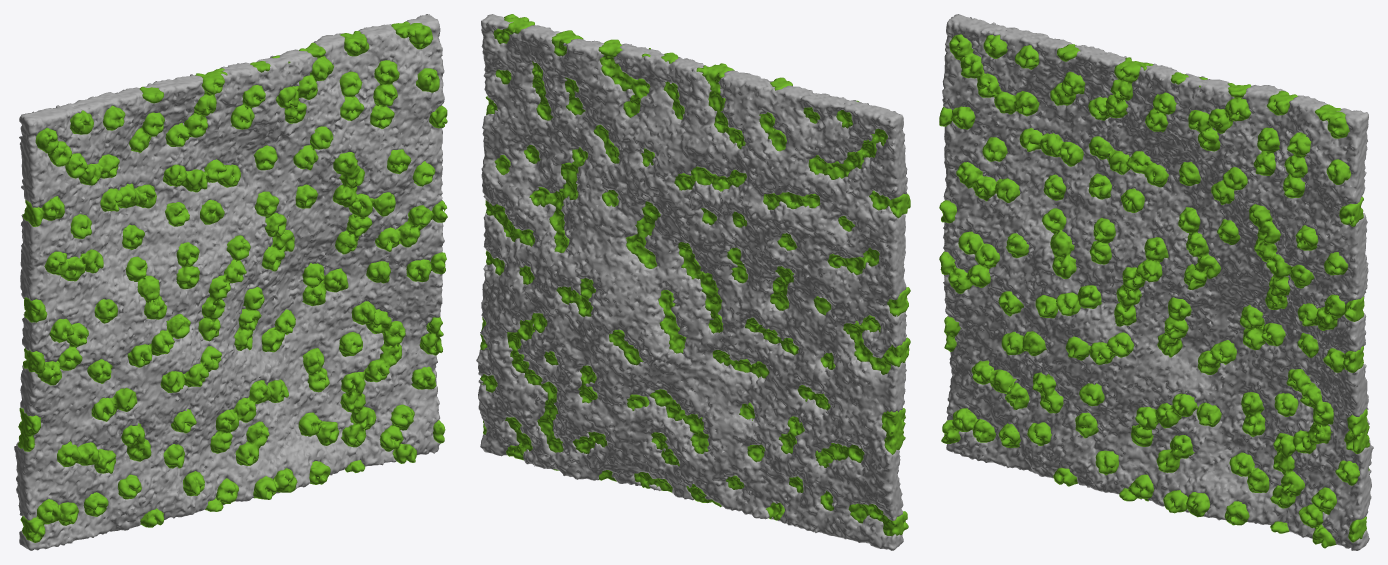
The model's file is membrane1_quest.glb.
The picture shows the model from 3 angles, left to right: view 1: azimuth 30°, elevation 25°; view 2: azimuth 150°, elevation 25°; view 3: azimuth 330°, elevation 25°; orthographic projection.
Size of the model in its own units: 1098 by 1097 by 170.
